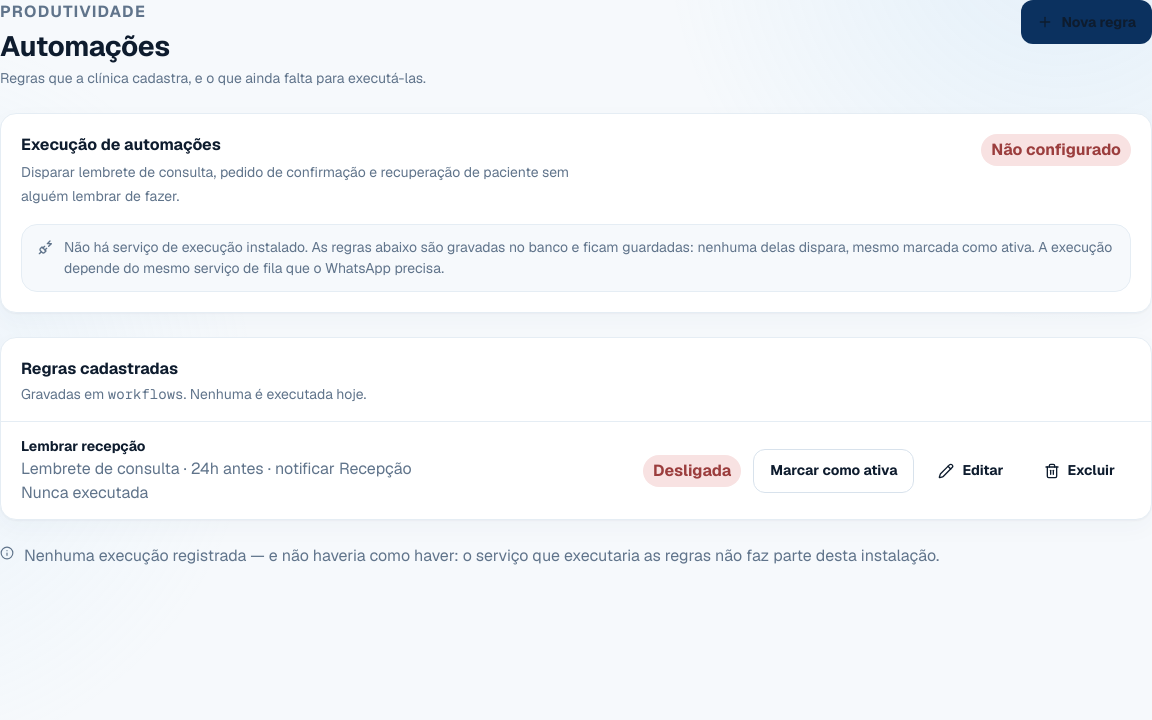
Test: cadastro › o gatilho troca os campos de configuração
Click the button "Nova regra" at {"x": 1087, "y": 22}, box [1021,0,1151,44]
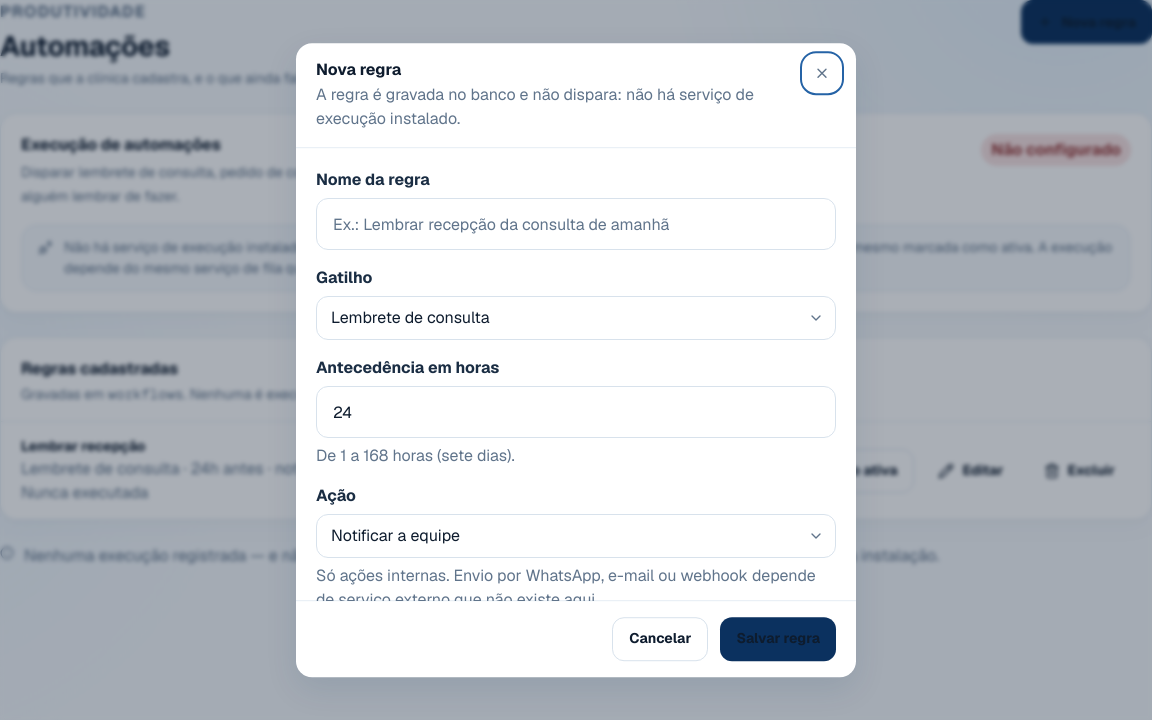
Result: the number field labelled "Antecedência em horas" is shown at [316,387,836,439]
Select "Consulta agendada" in the dropdown labelled "Gatilho" at {"x": 576, "y": 319}, box [316,297,836,341]
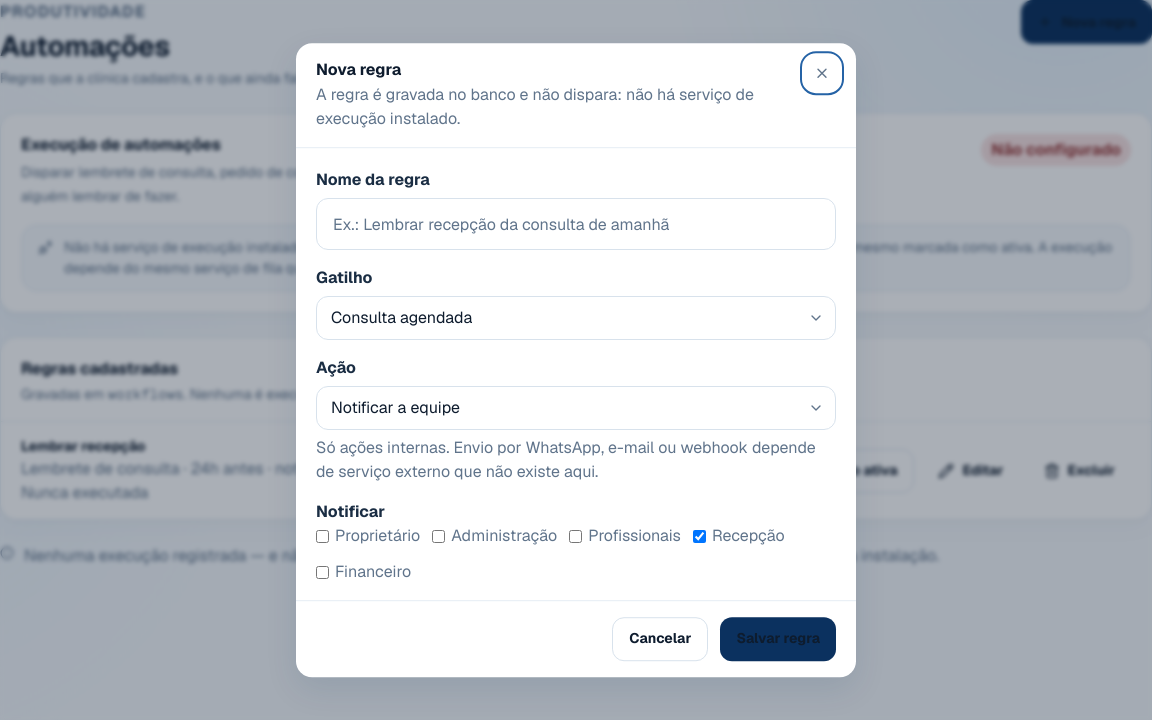
Expected: the field labelled "Horário" is not shown
Result: the label labelled "Antecedência em horas" is gone
Select "Horário fixo" in the dropdown labelled "Gatilho" at {"x": 576, "y": 319}, box [316,297,836,341]
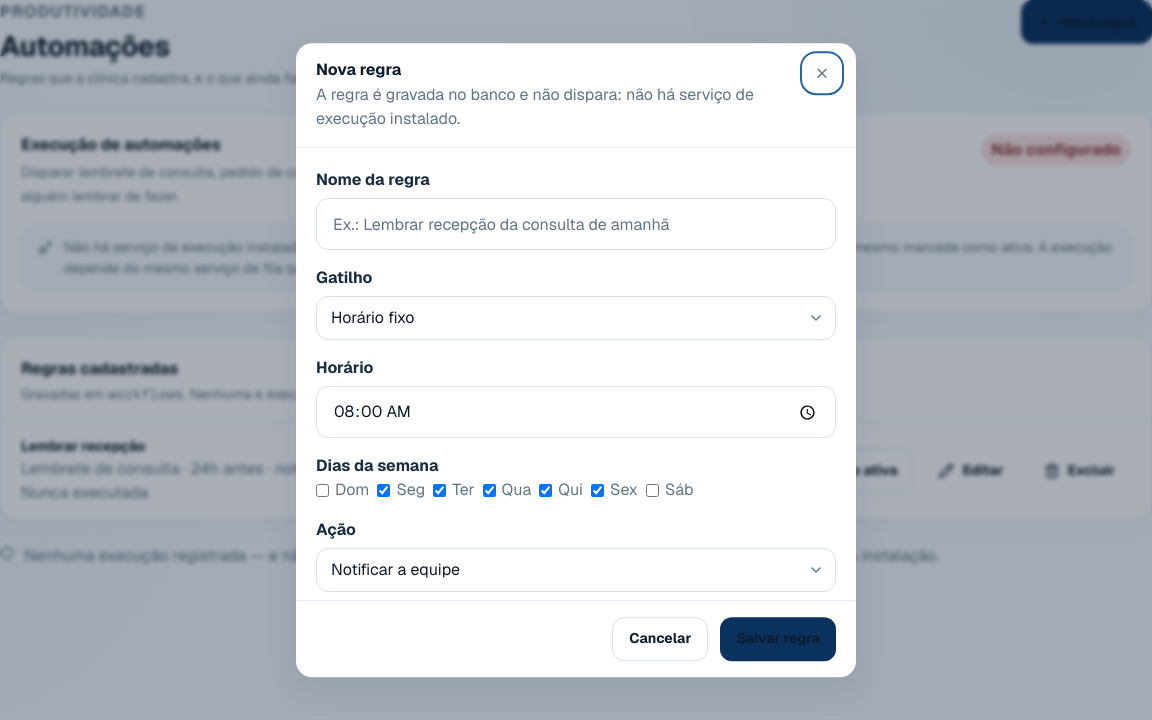
Result: the time field labelled "Horário" is shown at [316,387,836,439]
